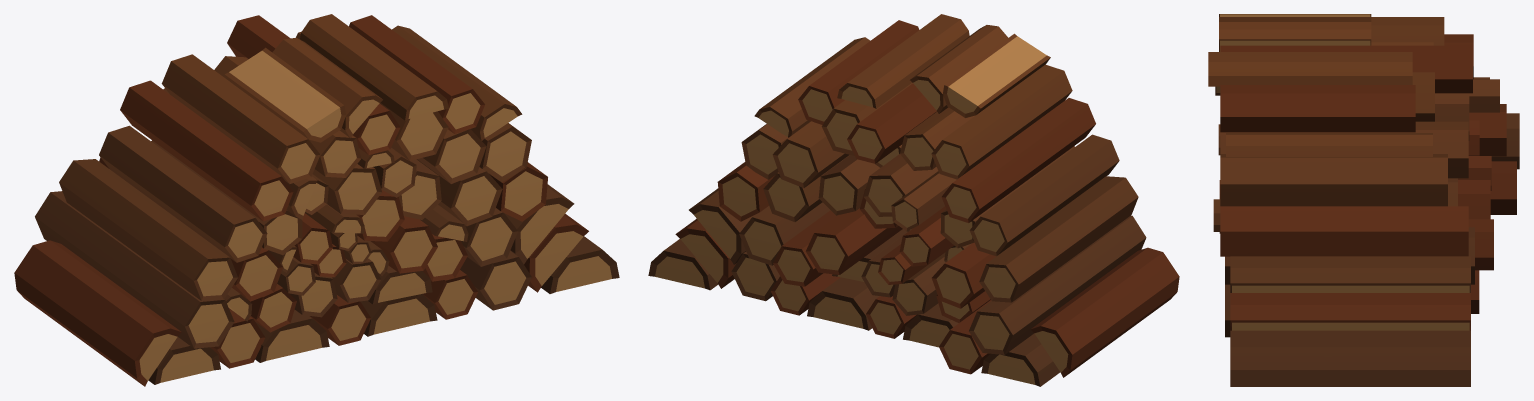
The model's file is Prop_Wood_Pile_03.obj.
The picture shows the model from 3 angles, left to right: view 1: azimuth 30°, elevation 25°; view 2: azimuth 150°, elevation 25°; view 3: azimuth 270°, elevation 25°; orthographic projection. The views are drawn at different scales.
Visible parts, largest first — view 1: Prop_Wood_Pile_03; view 2: Prop_Wood_Pile_03; view 3: Prop_Wood_Pile_03.
Boxes of the visible parts, x1,y1,x2,y2 form: Prop_Wood_Pile_03: (14,14,619,386); Prop_Wood_Pile_03: (648,14,1179,386); Prop_Wood_Pile_03: (1208,14,1519,386).
Bounding box in the file's own units: 1.33 × 0.6624 × 0.7763.
Materials: 1 (1 with a texture image).
